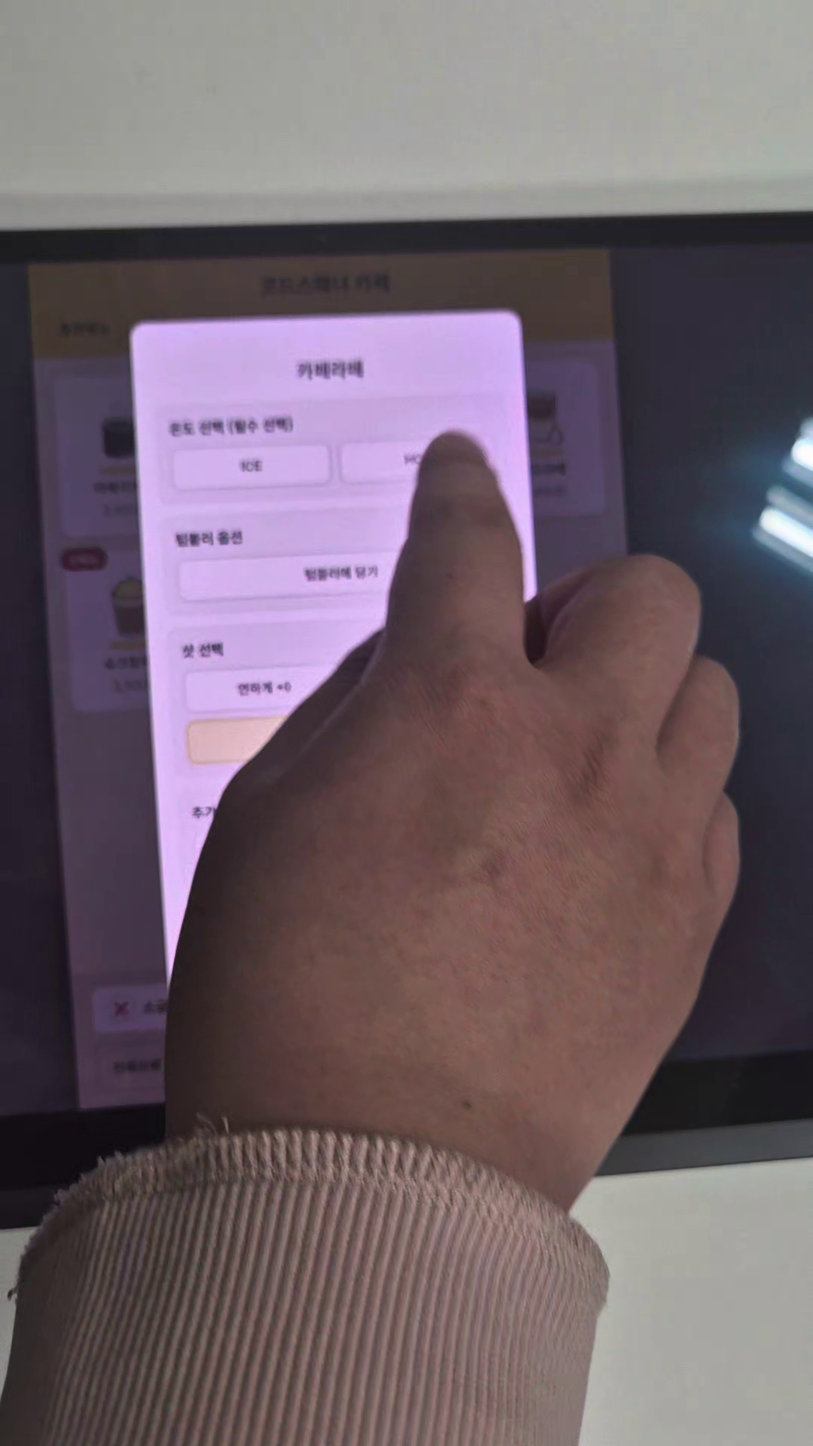option_button: (179, 547, 479, 602), (187, 664, 341, 711), (341, 434, 485, 483), (176, 443, 329, 488)
popup_modal: (133, 308, 566, 1025)
